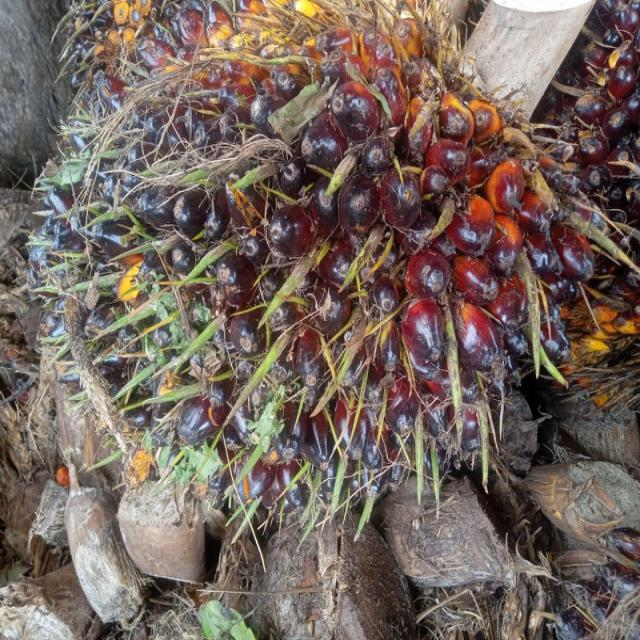fraksi 1: (33, 9, 594, 511)
